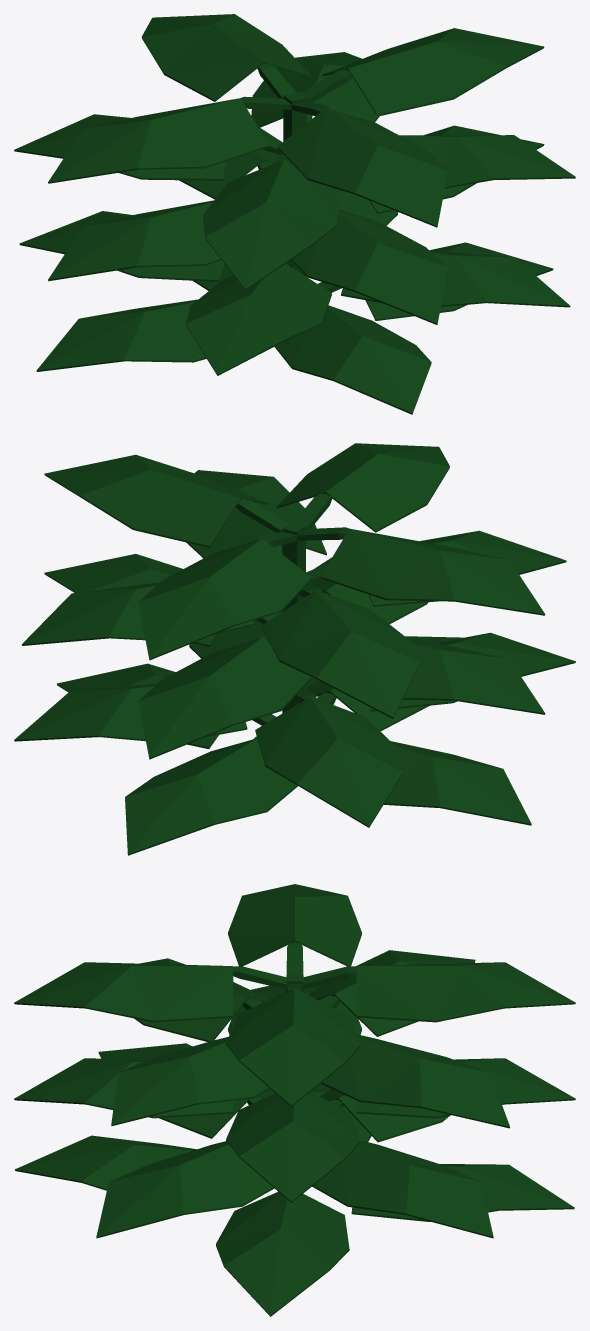
The model's file is Plant_05.obj.
3 views of the same model, one above another, from view 1: azimuth 30°, elevation 25°; view 2: azimuth 150°, elevation 25°; view 3: azimuth 270°, elevation 25° (orthographic). The views are drawn at different scales.
Parts seen in each view (by area): view 1: Plant_05_Cube.017; view 2: Plant_05_Cube.017; view 3: Plant_05_Cube.017.
Part boxes in pixels (bbox=[...]): Plant_05_Cube.017: bbox=[14, 14, 575, 414]; Plant_05_Cube.017: bbox=[14, 443, 575, 855]; Plant_05_Cube.017: bbox=[14, 884, 575, 1316].
Size of the model in its own units: 6.28 by 3.24 by 6.28.
